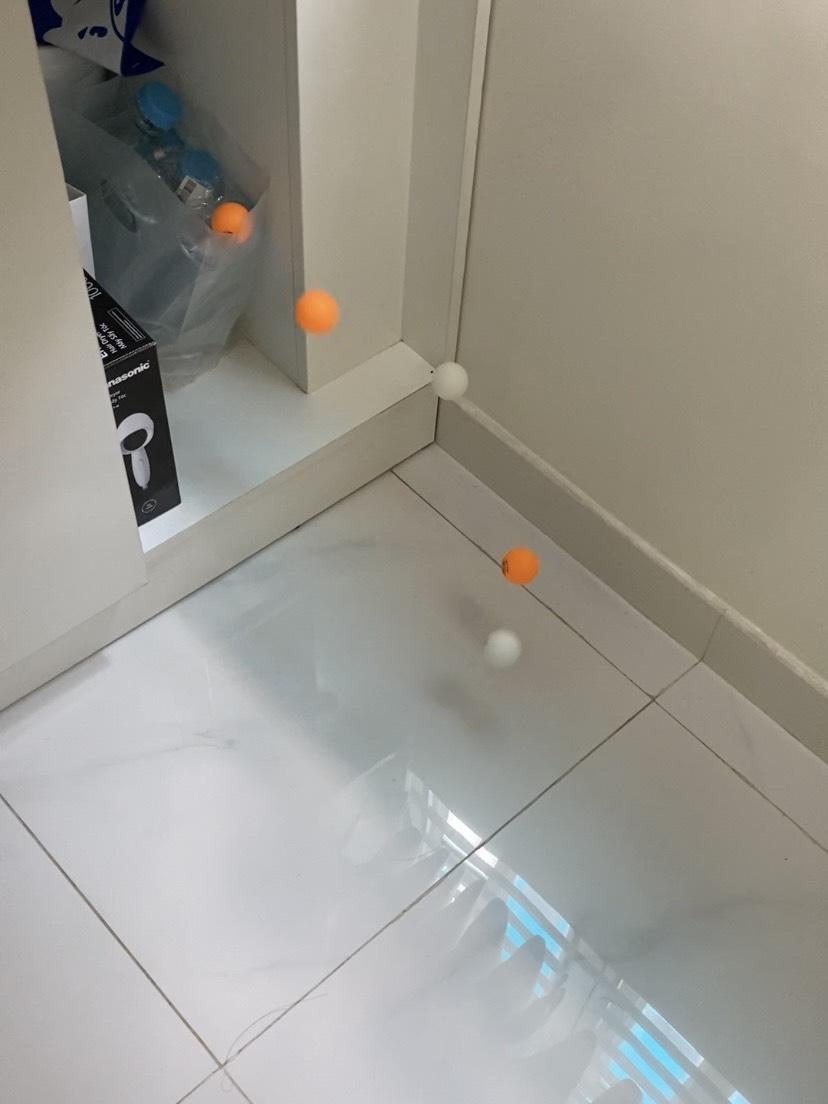oball: (297, 292, 340, 337), (210, 202, 252, 247), (500, 547, 540, 590)
